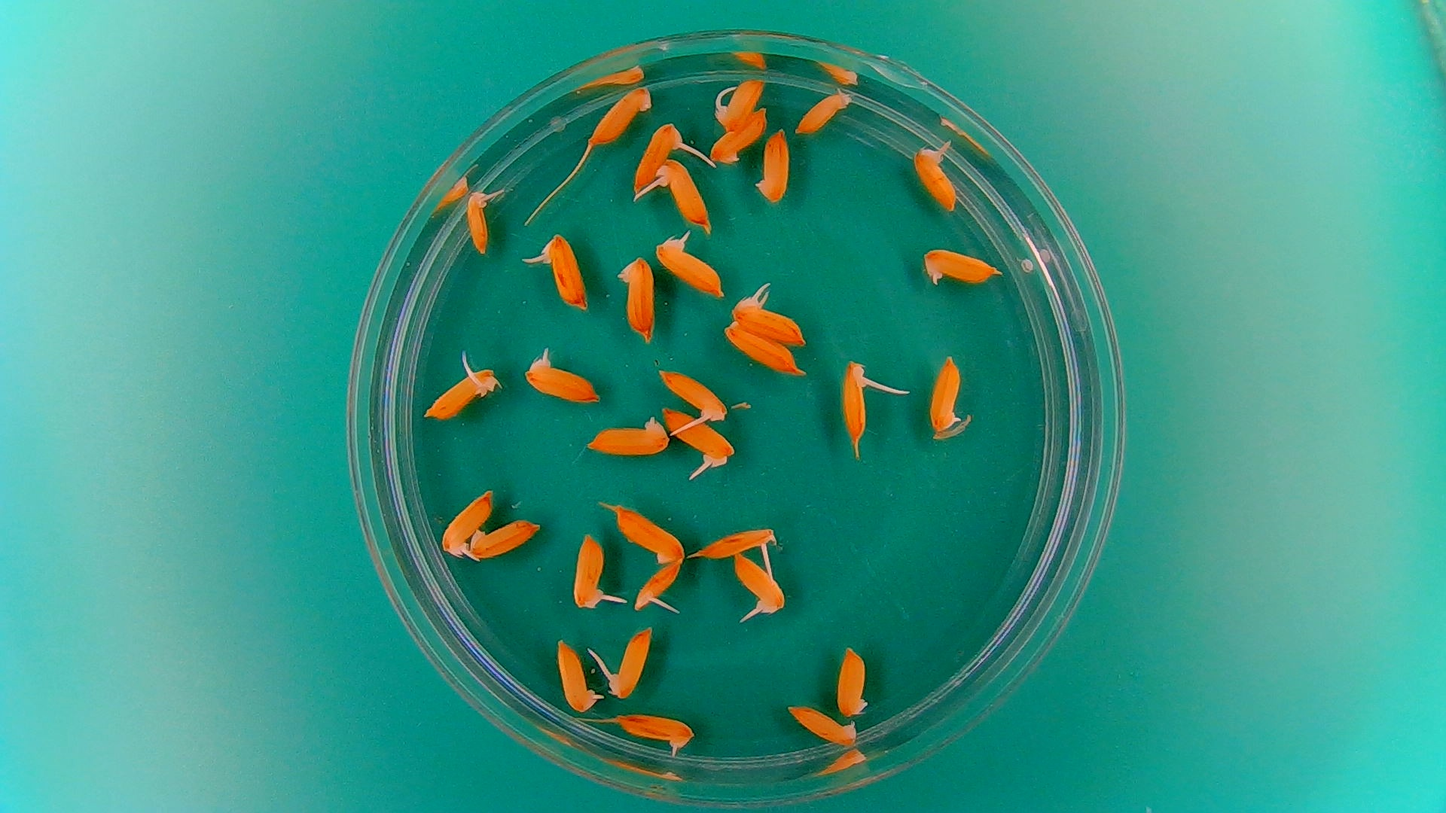no: (609, 503, 686, 566), (587, 85, 653, 145), (584, 413, 671, 458), (724, 324, 799, 376), (615, 254, 657, 344), (705, 107, 770, 165), (465, 516, 543, 562), (784, 702, 861, 748), (753, 126, 792, 205), (927, 354, 966, 432), (794, 89, 854, 136), (836, 641, 871, 718)
yes: (650, 241, 728, 299), (438, 488, 496, 559), (660, 409, 732, 466), (728, 297, 808, 346), (424, 365, 496, 418), (731, 551, 787, 618), (541, 233, 588, 310), (633, 120, 681, 194), (521, 359, 598, 405), (660, 372, 729, 423), (660, 160, 711, 227), (609, 626, 653, 701), (615, 712, 697, 752), (911, 146, 958, 215), (554, 641, 596, 714), (692, 526, 779, 560), (633, 557, 684, 613), (718, 72, 764, 132), (840, 363, 874, 443), (573, 537, 609, 610), (923, 250, 999, 284), (463, 190, 495, 254)
